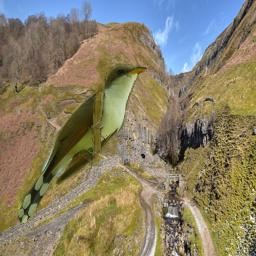Cuckoo: (18, 64, 147, 223)
